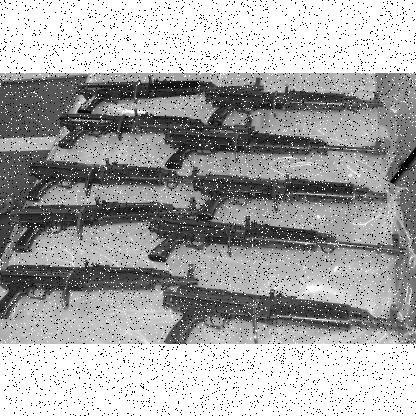gun: (0, 73, 405, 344)
